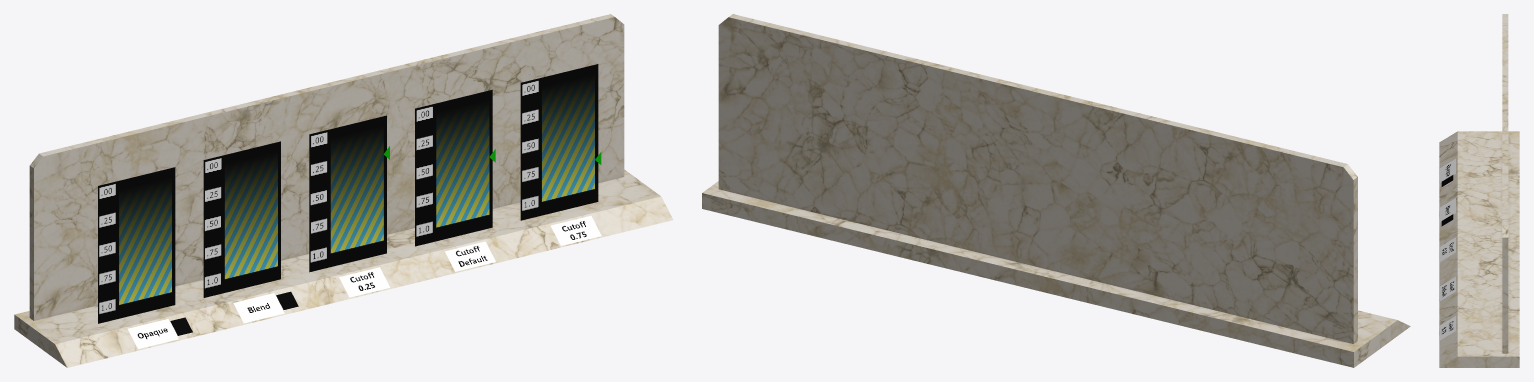
The model's file is alpha_blend_mode.glb.
3 renders of one model, left to right at view 1: azimuth 30°, elevation 25°; view 2: azimuth 150°, elevation 25°; view 3: azimuth 270°, elevation 25°, orthographic. The views are drawn at different scales.
Parts seen in each view (by area): view 1: Bed, TestCutoff75, TestBlend, TestOpaque, TestCutoff25, TestCutoffDefault, DecalOpaque; view 2: Bed; view 3: Bed, DecalOpaque.
Boxes of the visible parts, left/top/right/bottom form: Bed: left=14, top=14, right=673, bottom=367; TestCutoff75: left=520, top=64, right=598, bottom=220; TestBlend: left=203, top=141, right=280, bottom=297; TestOpaque: left=98, top=167, right=175, bottom=323; TestCutoff25: left=309, top=115, right=386, bottom=272; TestCutoffDefault: left=415, top=89, right=492, bottom=246; DecalOpaque: left=128, top=216, right=601, bottom=349; Bed: left=702, top=14, right=1410, bottom=367; Bed: left=1439, top=14, right=1519, bottom=367; DecalOpaque: left=1440, top=158, right=1455, bottom=340.
Bounding box in the file's own units: 8.6 × 2.4 × 1.3.
Materials: 7 (7 with a texture image).
